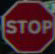Stop: (2, 1, 51, 44)
